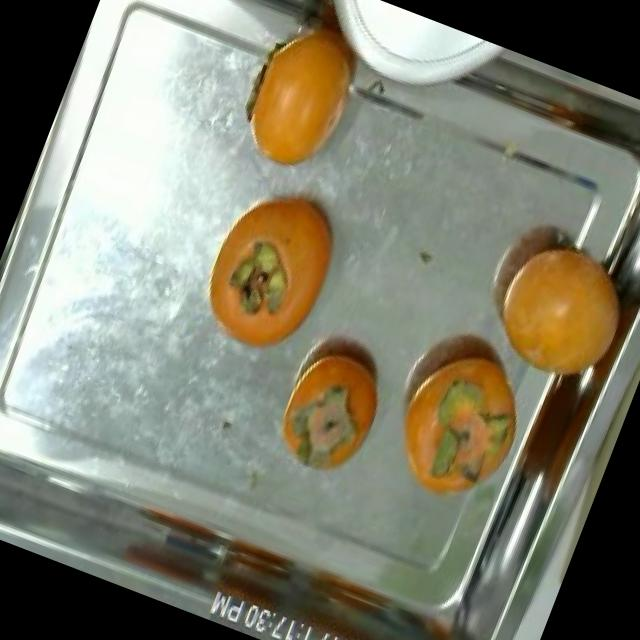Fruit: (444, 195, 640, 415), (364, 305, 554, 530), (180, 159, 364, 376), (213, 0, 394, 201), (260, 311, 412, 496), (500, 338, 612, 512)
